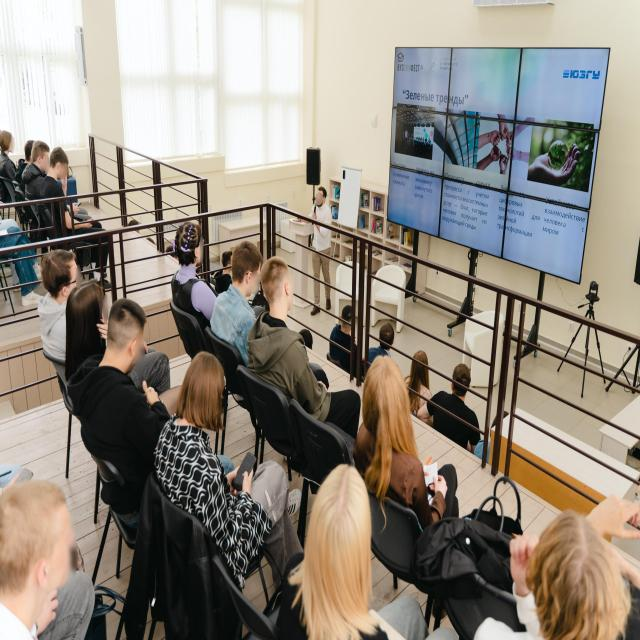Person: (158, 342, 288, 604), (288, 451, 420, 640), (487, 497, 640, 640), (347, 350, 454, 551), (0, 458, 93, 640), (252, 251, 338, 428), (88, 295, 154, 507), (38, 146, 120, 289), (218, 234, 266, 390), (22, 235, 82, 356), (60, 275, 110, 399), (305, 182, 343, 334), (437, 346, 487, 454), (165, 224, 214, 327), (399, 331, 437, 424), (18, 136, 52, 218), (331, 298, 364, 374), (375, 316, 401, 373), (0, 130, 20, 194)
